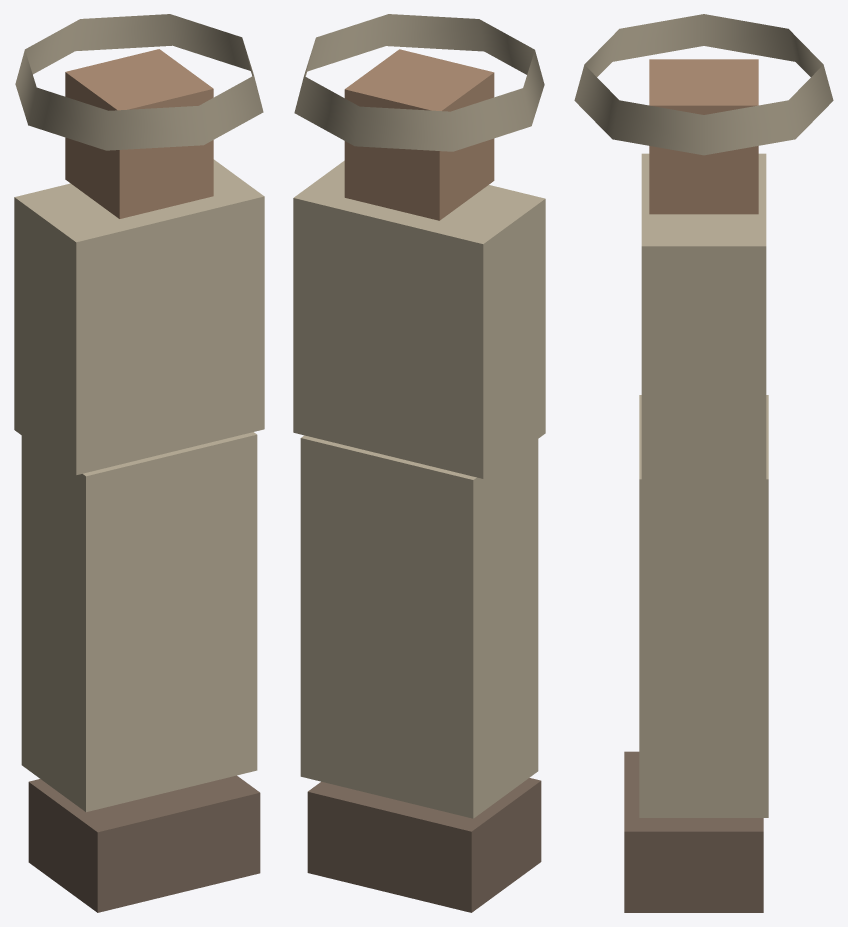
File: forest-guide.glb
3 renders of one model, left to right at view 1: azimuth 30°, elevation 25°; view 2: azimuth 150°, elevation 25°; view 3: azimuth 270°, elevation 25°, orthographic.
Visible parts, largest first — view 1: Trousers_Node, Torso_Node, Boots_Node, SafariHat_Node, Head_Node; view 2: Trousers_Node, Torso_Node, Boots_Node, SafariHat_Node, Head_Node; view 3: Trousers_Node, Torso_Node, SafariHat_Node, Boots_Node, Head_Node.
Part boxes in pixels (left/top/right/bottom): Trousers_Node: left=21, top=432, right=257, bottom=812; Torso_Node: left=14, top=159, right=264, bottom=475; Boots_Node: left=28, top=775, right=260, bottom=912; SafariHat_Node: left=15, top=14, right=263, bottom=150; Head_Node: left=65, top=49, right=213, bottom=218; Trousers_Node: left=300, top=435, right=538, bottom=818; Torso_Node: left=293, top=160, right=545, bottom=478; Boots_Node: left=307, top=778, right=541, bottom=912; SafariHat_Node: left=294, top=14, right=544, bottom=151; Head_Node: left=344, top=49, right=494, bottom=220; Trousers_Node: left=639, top=395, right=768, bottom=817; Torso_Node: left=641, top=153, right=766, bottom=481; SafariHat_Node: left=574, top=14, right=833, bottom=155; Boots_Node: left=624, top=751, right=763, bottom=912; Head_Node: left=649, top=59, right=758, bottom=214.
Size of the model in its own units: 0.52 by 1.79 by 0.52.
